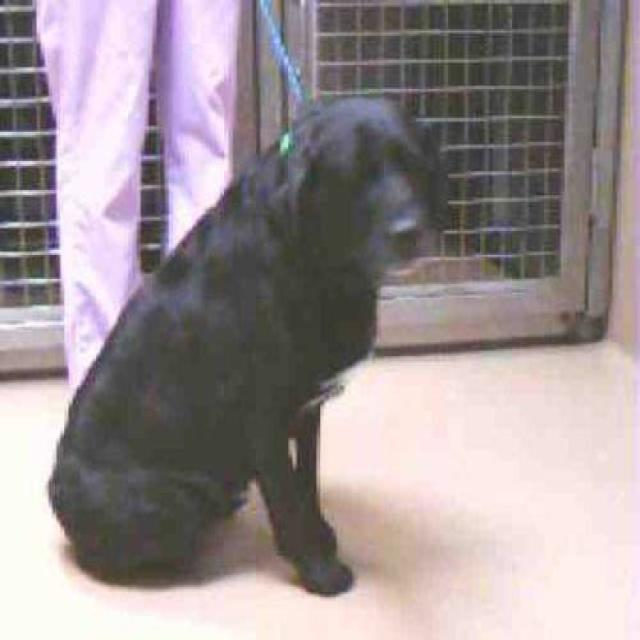dog: (46, 92, 451, 596)
